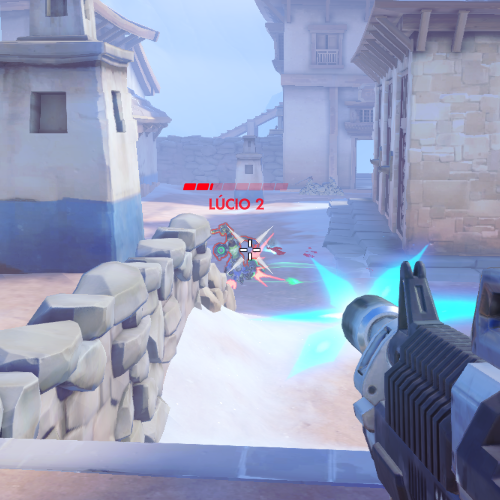hpbar: (183, 183, 288, 190)
